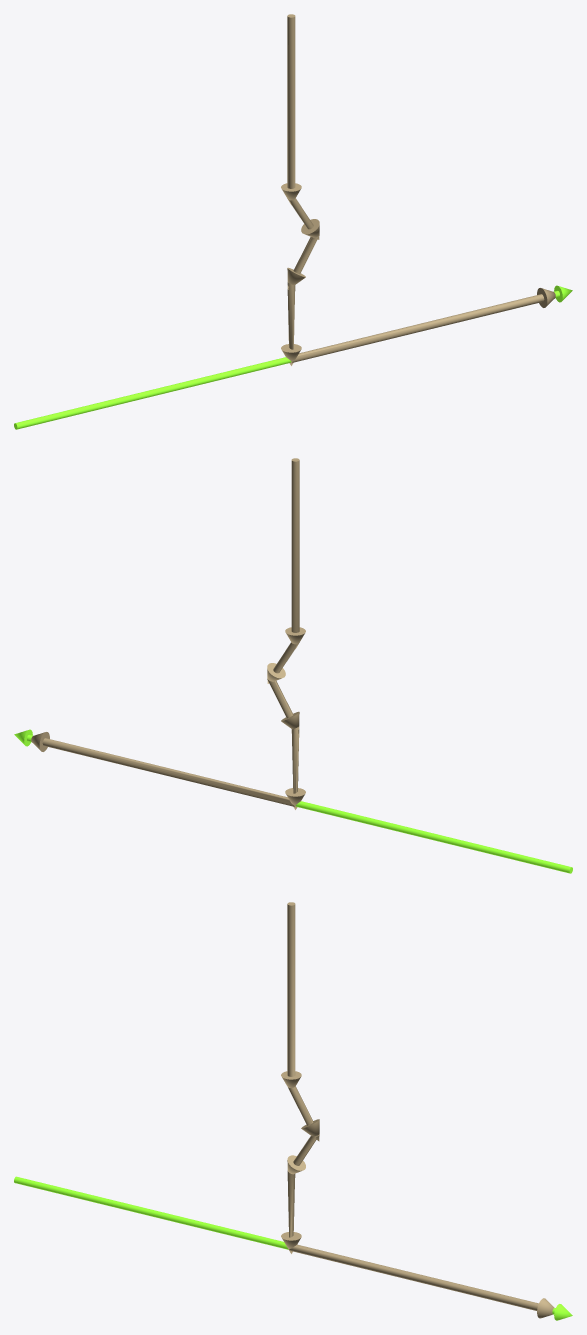
Rendered from rotary_airlock_feeder_flow.glb.
The picture shows the model from 3 angles, top to bottom: view 1: azimuth 30°, elevation 25°; view 2: azimuth 150°, elevation 25°; view 3: azimuth 330°, elevation 25°; orthographic projection.
Visible parts, largest first — view 1: powder.001, conveying_air; view 2: powder.001, conveying_air; view 3: powder.001, conveying_air.
Part boxes in pixels (x1,y1,x2,y2): powder.001: [281, 14, 555, 365]; conveying_air: [14, 285, 572, 429]; powder.001: [31, 458, 305, 809]; conveying_air: [14, 729, 572, 873]; powder.001: [281, 902, 554, 1318]; conveying_air: [14, 1176, 572, 1320].
Bounding box in the file's own units: 1.92 × 1.16 × 0.0624.
